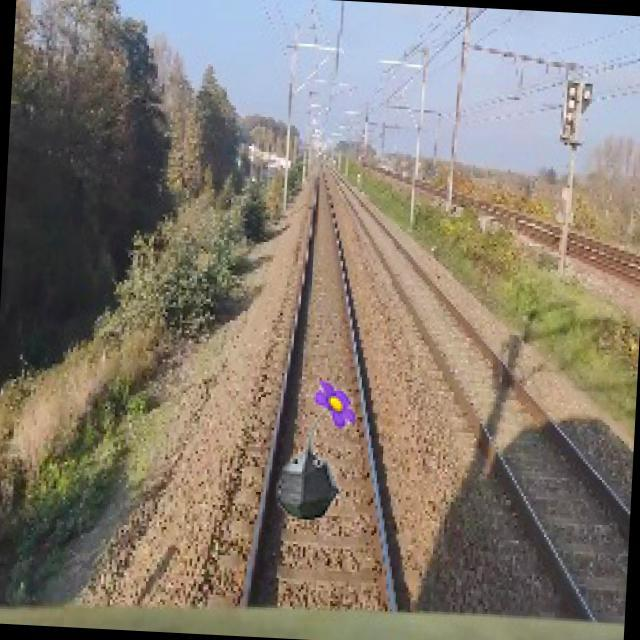danger: (267, 378, 364, 522)
rail: (215, 168, 426, 621)
